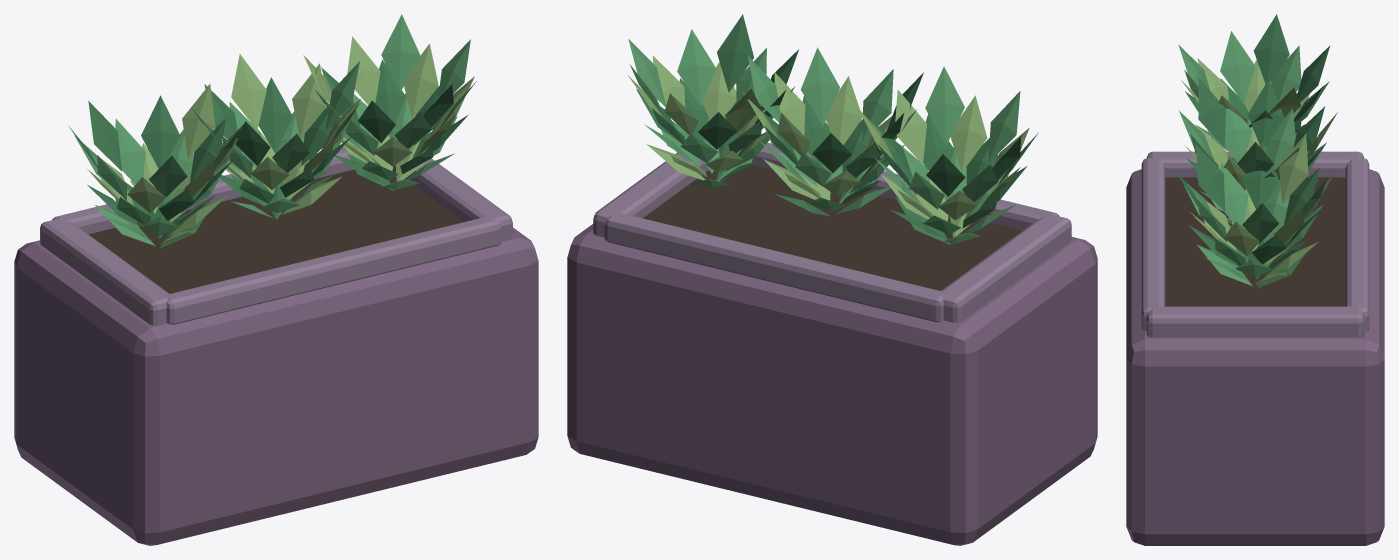
Rendered from city_planter.glb.
3 renders of one model, left to right at view 1: azimuth 30°, elevation 25°; view 2: azimuth 150°, elevation 25°; view 3: azimuth 270°, elevation 25°, orthographic. The views are drawn at different scales.
Visible parts, largest first — view 1: city_planter; view 2: city_planter; view 3: city_planter.
Part boxes in pixels (box(x1,y1,x2,y2)): city_planter: box(14, 14, 538, 545); city_planter: box(567, 14, 1097, 545); city_planter: box(1126, 14, 1384, 545).
Bounding box in the file's own units: 1.3 × 1.16 × 0.76.
